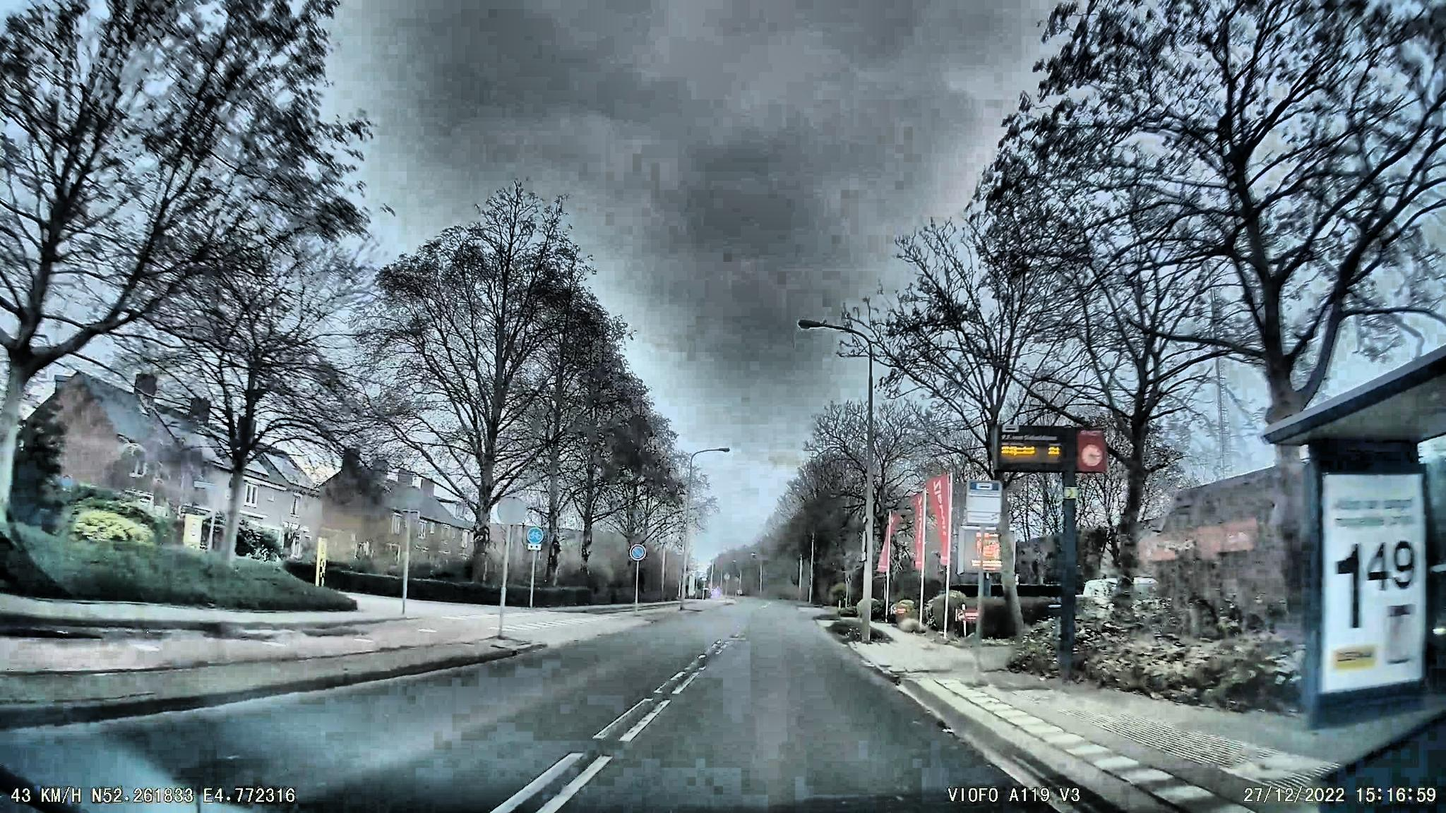Roads: (0, 604, 1174, 813)
